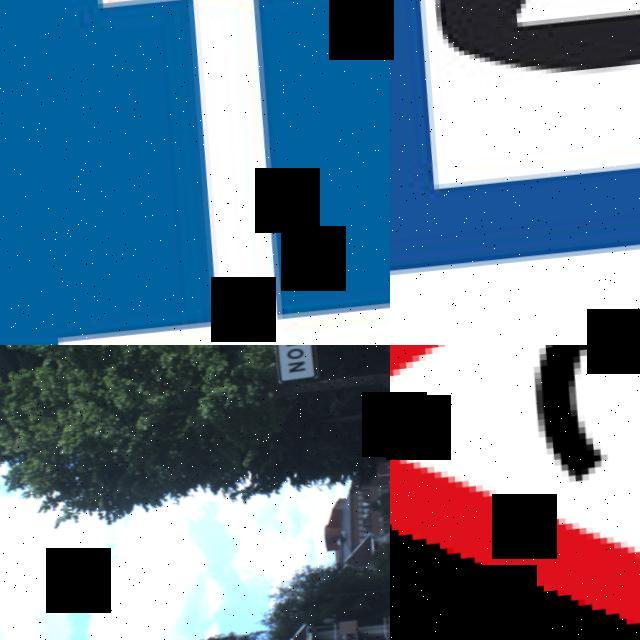171: (258, 345, 323, 388)
178: (0, 0, 390, 345)
56: (390, 0, 640, 298)
Roundabout: (390, 345, 640, 640)
